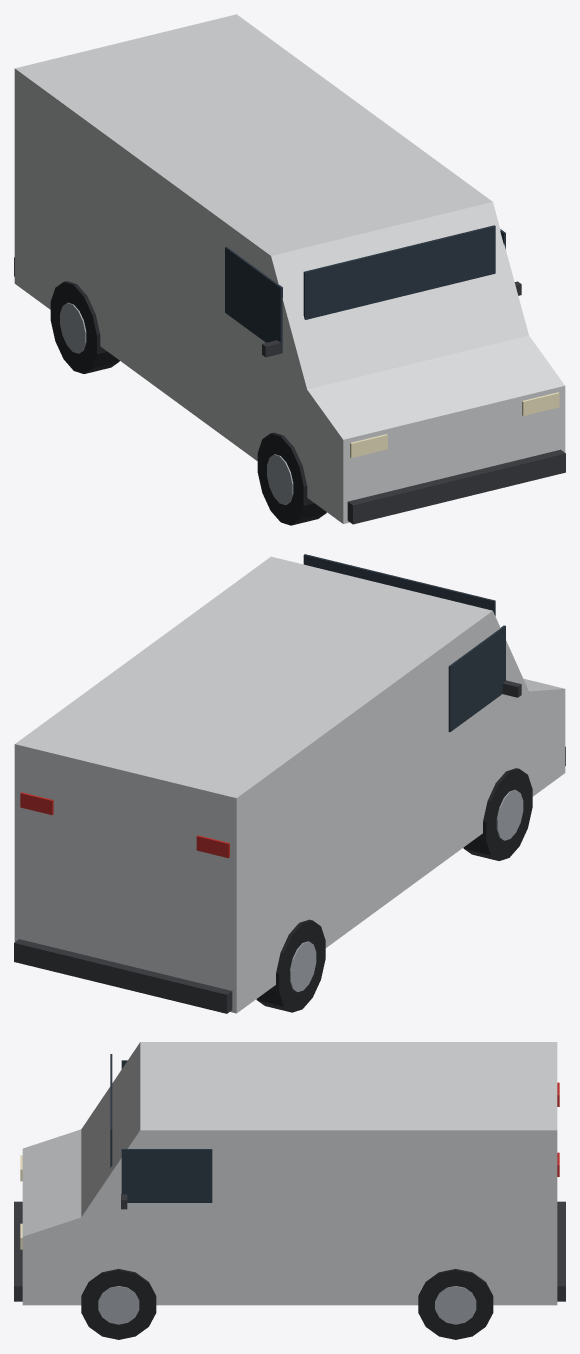
Rendered from van.glb.
3 views of the same model, one above another, from view 1: azimuth 30°, elevation 25°; view 2: azimuth 150°, elevation 25°; view 3: azimuth 270°, elevation 25° (orthographic). The views are drawn at different scales.
Visible parts, largest first — view 1: Body, Wheel_FR, Wheel_RR; view 2: Body, Wheel_FR, Wheel_RR; view 3: Body, Wheel_RL, Wheel_FL.
Part boxes in pixels (x1,y1,x2,y2): Body: (14, 14, 565, 524); Wheel_FR: (257, 432, 326, 525); Wheel_RR: (50, 281, 119, 373); Body: (14, 554, 565, 1013); Wheel_FR: (463, 768, 532, 860); Wheel_RR: (256, 919, 325, 1012); Body: (14, 1042, 565, 1305); Wheel_RL: (418, 1269, 493, 1339); Wheel_FL: (81, 1269, 156, 1339).
Size of the model in its own units: 2.25 by 2.15 by 5.16.
